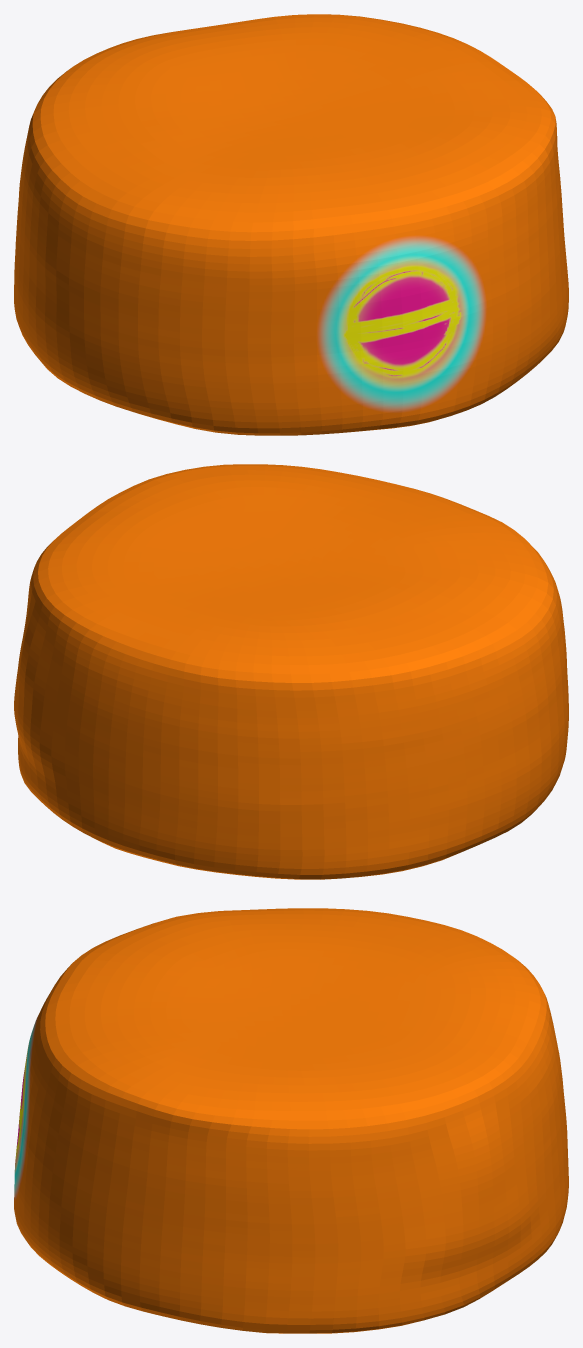
Rendered from salcomune.gltf.
3 renders of one model, top to bottom at view 1: azimuth 30°, elevation 25°; view 2: azimuth 150°, elevation 25°; view 3: azimuth 270°, elevation 25°, orthographic. The views are drawn at different scales.
Visible parts, largest first — view 1: Retopo_Cylinder; view 2: Retopo_Cylinder; view 3: Retopo_Cylinder.
Part boxes in pixels (x1,y1,x2,y2): Retopo_Cylinder: [14, 14, 568, 435]; Retopo_Cylinder: [14, 464, 568, 879]; Retopo_Cylinder: [14, 908, 568, 1333].
Size of the model in its own units: 5.21 by 2.3 by 5.08.
1 material, 1 textured.
